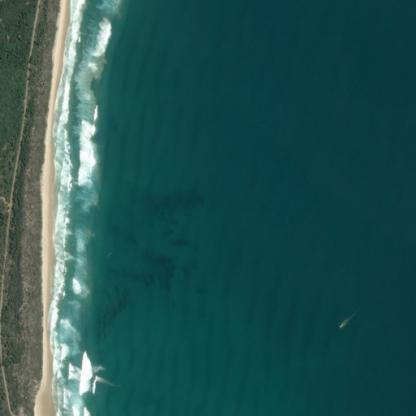ship: (339, 324, 342, 327)
